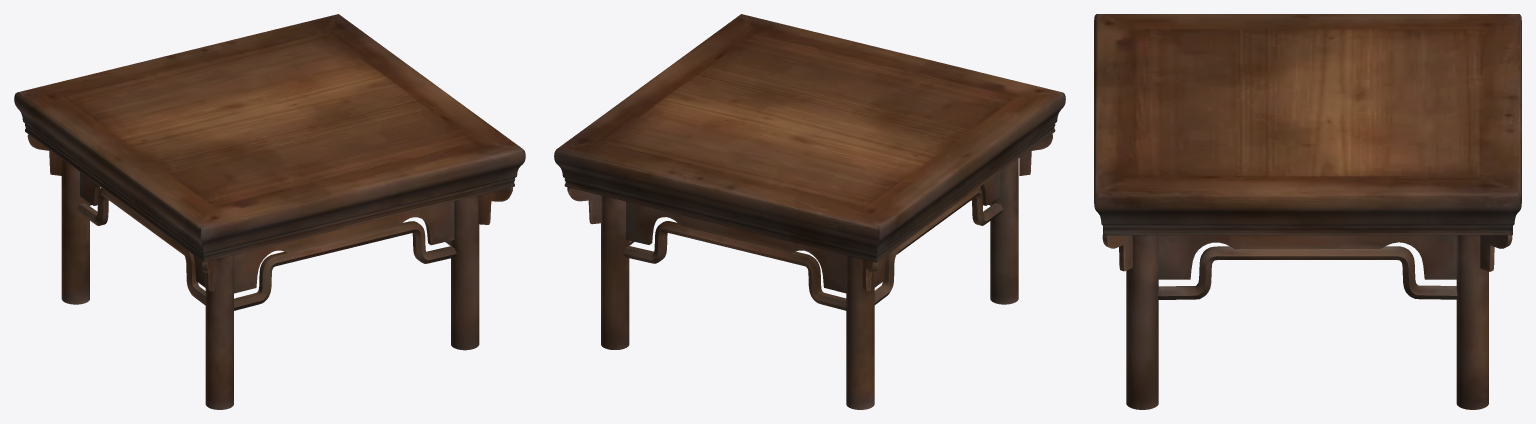
The model's file is chinese_tea_table.glb.
3 renders of one model, left to right at view 1: azimuth 30°, elevation 25°; view 2: azimuth 150°, elevation 25°; view 3: azimuth 270°, elevation 25°, orthographic. The views are drawn at different scales.
Parts seen in each view (by area): view 1: chinese_tea_table_lod0; view 2: chinese_tea_table_lod0; view 3: chinese_tea_table_lod0.
Boxes of the visible parts, x1=… form: chinese_tea_table_lod0: x1=14, y1=14, x2=525, y2=409; chinese_tea_table_lod0: x1=554, y1=14, x2=1065, y2=409; chinese_tea_table_lod0: x1=1094, y1=14, x2=1521, y2=409.
Size of what is drawn, in the model's own units: 0.8413 by 0.4986 by 0.8356.
1 material, 1 textured.
